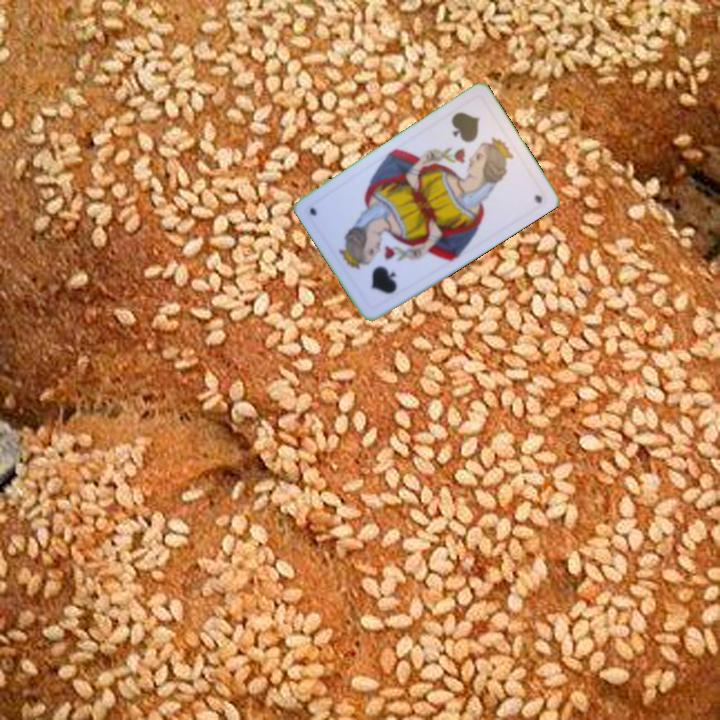s_q.png: (336, 227, 419, 313), (432, 93, 515, 178)
